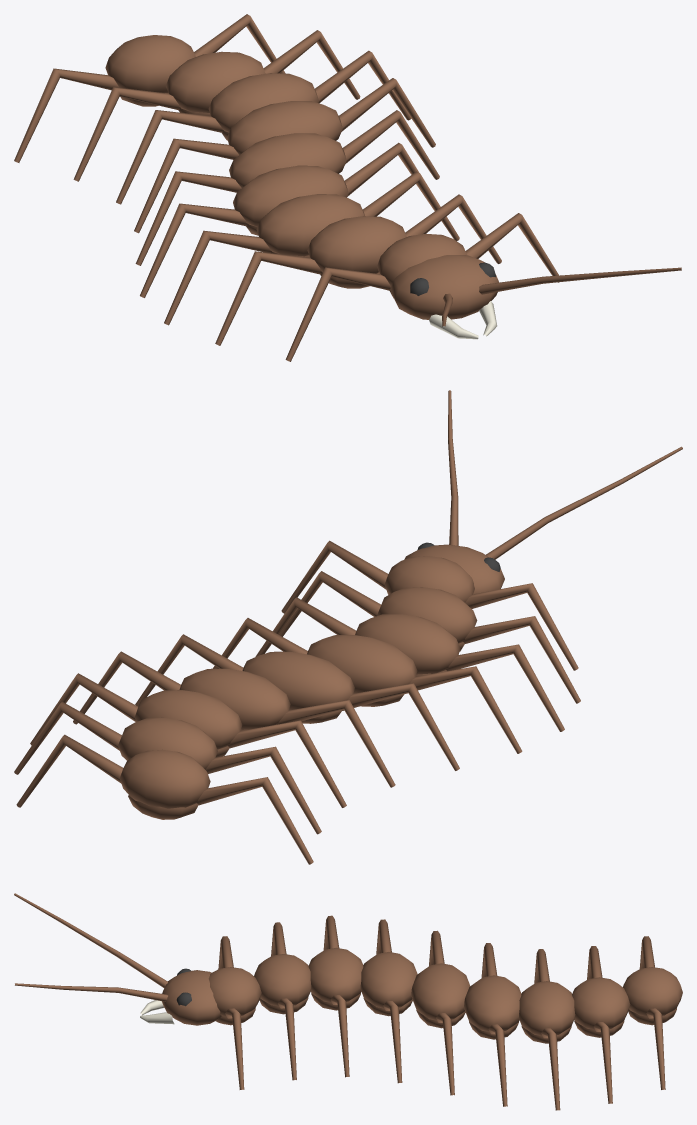
Rendered from centipede.glb.
3 renders of one model, top to bottom at view 1: azimuth 30°, elevation 25°; view 2: azimuth 150°, elevation 25°; view 3: azimuth 270°, elevation 25°, orthographic. The views are drawn at different scales.
Bounding box in the file's own units: 1.27 × 0.387 × 2.38.
